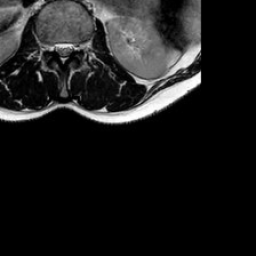CCS_normal: (59, 33, 66, 70)
LFS_normal: (74, 34, 82, 58)
LLS_normal: (66, 33, 74, 61)
RFS_normal: (44, 33, 52, 59)
RLS_normal: (52, 34, 59, 59)
